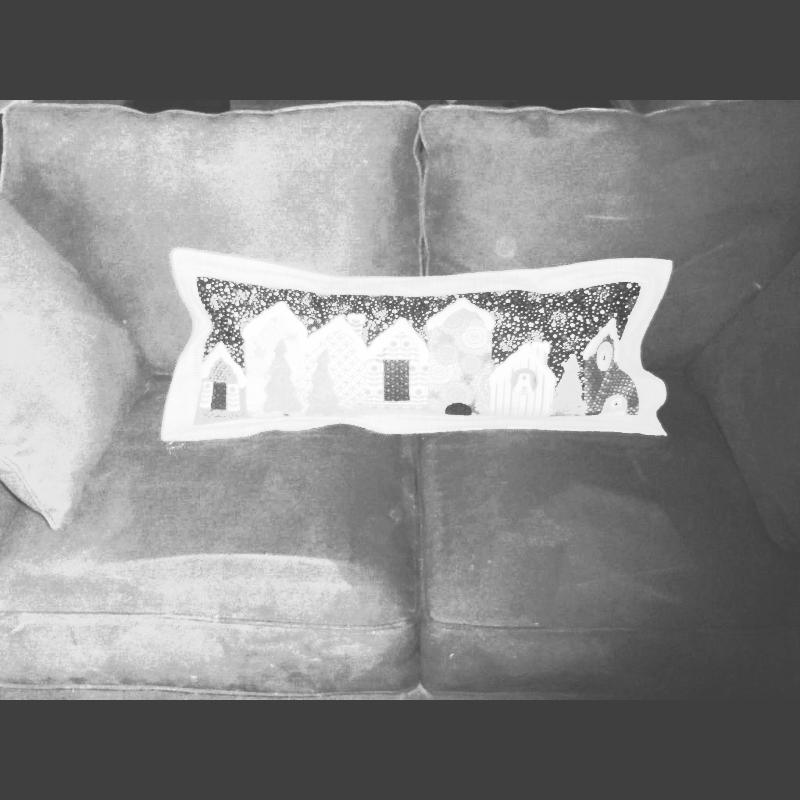pillow: (162, 251, 666, 440), (1, 187, 158, 535)
